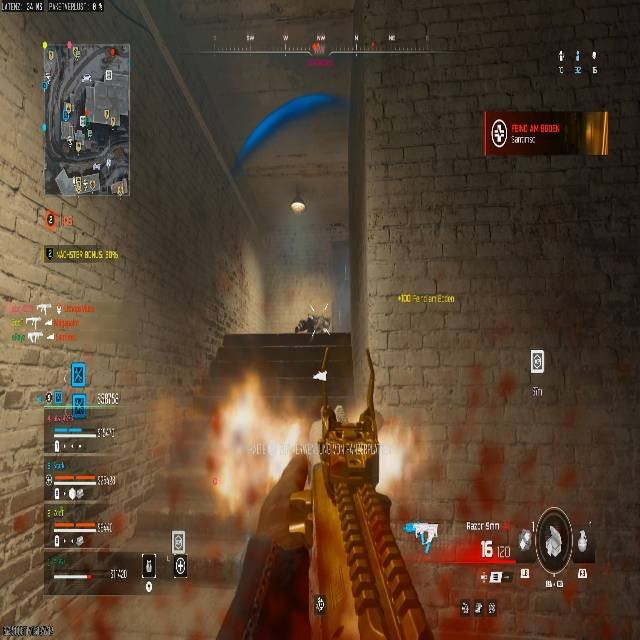player: (294, 314, 331, 336)
